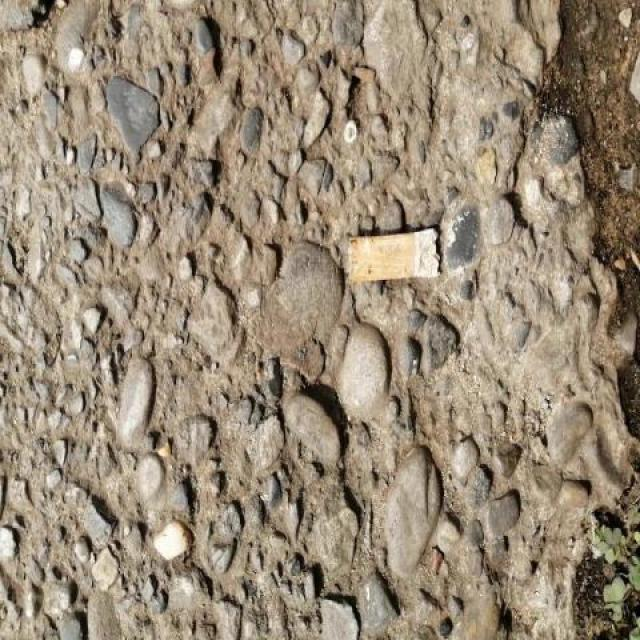non-organic waste: (342, 219, 446, 288)
